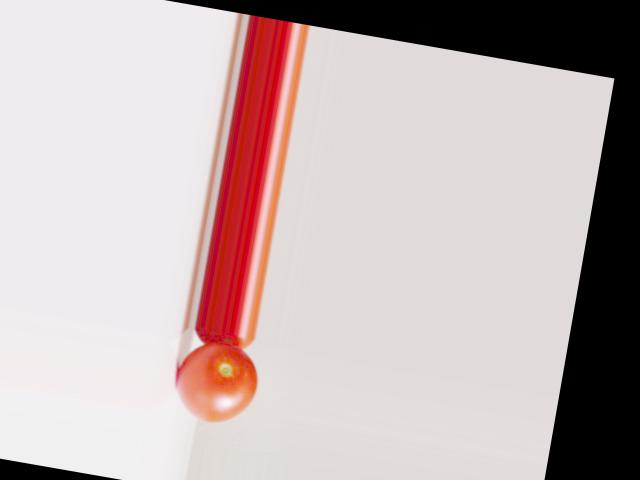tomato: (171, 336, 263, 428)
